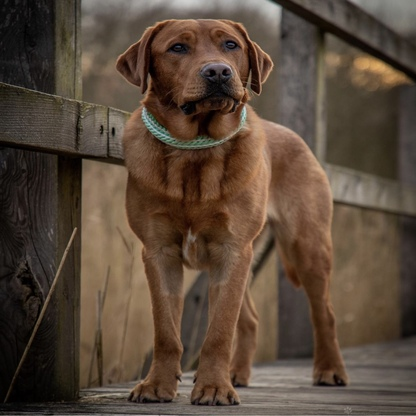labrado: (112, 13, 352, 408)
